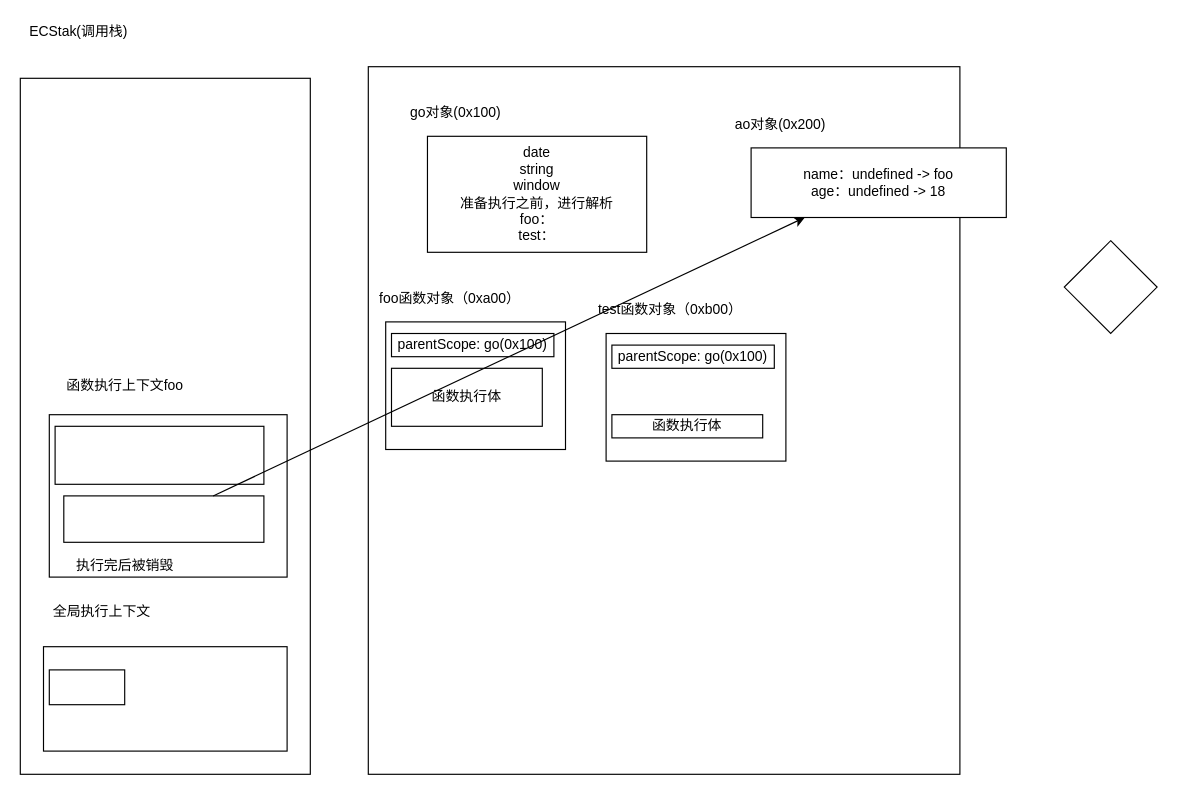
Some shapes in this 1177 by 795 pixel diagram are drawn without their labels. Here are the shapes that lost their labels. From the top down, the box of each, then its label:
(54, 425, 264, 484): VO: AO(OX200)
(63, 495, 264, 542): var name = 'foo var age = 18
(48, 669, 125, 705): vo： go
